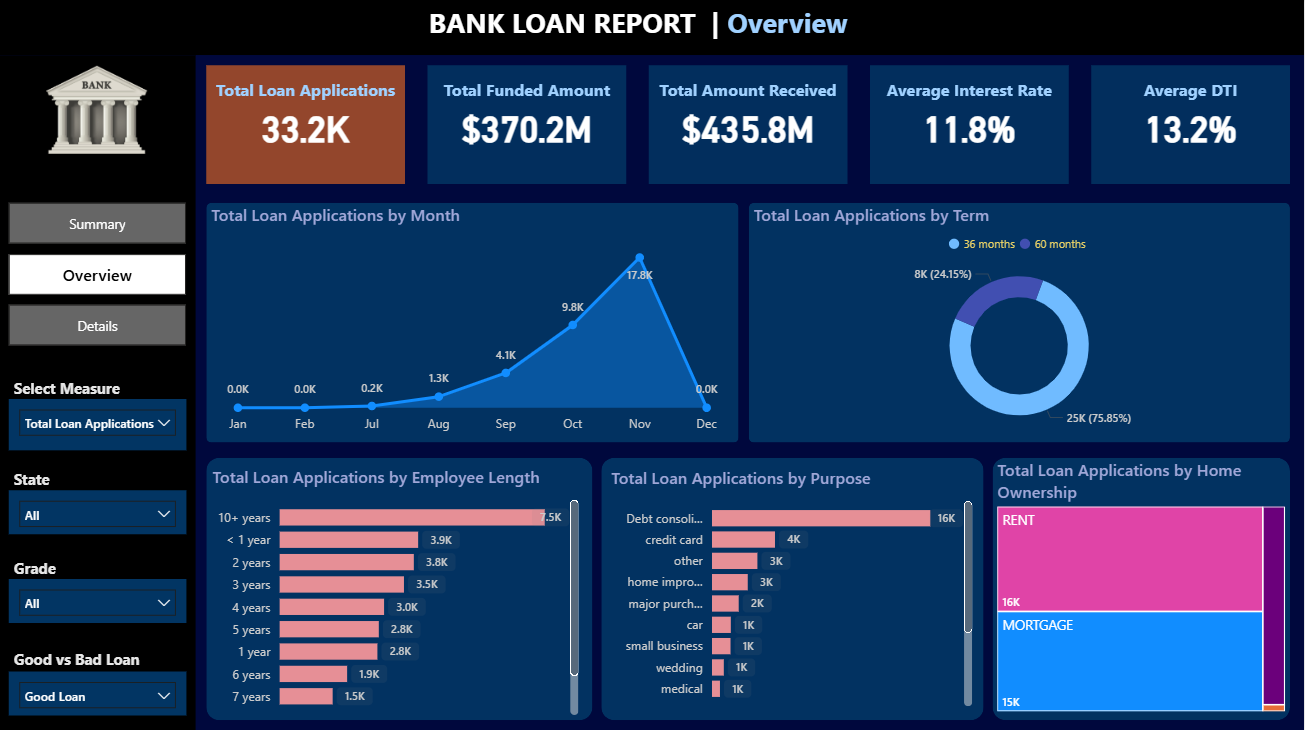

The dashboard page shown, as its layout file describes it:
{"tool":"powerbi","page":{"name":"Overview","canvas":[1280,720],"ordinal":1},"visuals":[{"type":"shape","box":[202.5,65,195.1,116.6],"z":0,"group":"g1"},{"type":"shape","box":[419.6,65,195.1,116.6],"z":0,"group":"g2"},{"type":"shape","box":[636.8,65,195.1,116.6],"z":0,"group":"g3"},{"type":"shape","box":[854,65,195.1,116.6],"z":0,"group":"g4"},{"type":"shape","box":[1071.2,65,195.1,116.6],"z":0,"group":"g5"},{"type":"shape","box":[202.5,200,522.7,235.6],"z":0},{"type":"shape","box":[0,0,1280.3,55],"z":1000},{"type":"card","fields":{"Values":["bank_loans bank_loan_data.Total Loan Applications"]},"box":[202.5,96.9,195.1,56.4],"z":1000,"group":"g1"},{"type":"card","fields":{"Values":["bank_loans bank_loan_data.Total Funded Amount"]},"box":[419.6,96.9,195.1,56.4],"z":1000,"group":"g2"},{"type":"card","fields":{"Values":["bank_loans bank_loan_data.Total Amount Received"]},"box":[636.8,96.9,195.1,56.4],"z":1000,"group":"g3"},{"type":"card","fields":{"Values":["bank_loans bank_loan_data.Avg Interest Rate"]},"box":[854,96.9,195.1,56.4],"z":1000,"group":"g4"},{"type":"card","fields":{"Values":["bank_loans bank_loan_data.Avg DTI"]},"box":[1071.2,96.9,195.1,56.4],"z":1000,"group":"g5"},{"type":"shape","box":[0,55.2,192,665],"z":2000},{"type":"textbox","box":[202.5,72.4,195.1,35.6],"z":2000,"group":"g1"},{"type":"textbox","box":[419.6,72.4,195.1,35.6],"z":2000,"group":"g2"},{"type":"textbox","box":[636.8,72.4,195.1,35.6],"z":2000,"group":"g3"},{"type":"textbox","box":[854,72.4,195.1,35.6],"z":2000,"group":"g4"},{"type":"textbox","box":[1071.2,72.4,195.1,35.6],"z":2000,"group":"g5"},{"type":"textbox","box":[416,0,449.1,55.2],"z":3000},{"type":"group","id":"g1","title":"Group 1","box":[202.5,65,195.1,116.6],"z":4000},{"type":"group","id":"g2","title":"Group 1","box":[419.6,65,195.1,116.6],"z":5000},{"type":"group","id":"g3","title":"Group 1","box":[636.8,65,195.1,116.6],"z":6000},{"type":"group","id":"g4","title":"Group 1","box":[854,65,195.1,116.6],"z":7000},{"type":"group","id":"g5","title":"Group 1","box":[1071.2,65,195.1,116.6],"z":8000},{"type":"slicer","fields":{"Values":["bank_loans bank_loan_data.address_state"]},"box":[8.6,481.9,174.2,42.9],"z":9000},{"type":"textbox","box":[8.6,456.1,174.2,35.6],"z":10000},{"type":"slicer","fields":{"Values":["bank_loans bank_loan_data.grade"]},"box":[8.6,569,174.2,42.9],"z":11000},{"type":"slicer","fields":{"Values":["bank_loans bank_loan_data.Good vs Bad Loan"]},"box":[8.6,659.8,174.2,42.9],"z":12000},{"type":"textbox","box":[8.6,543.2,174.2,35.6],"z":13000},{"type":"textbox","box":[8.6,632.8,174.2,35.6],"z":14000},{"type":"areaChart","fields":{"Category":["Date Table.Month"],"Y":["bank_loans bank_loan_data.Total Loan Applications"]},"box":[202.5,200,522.7,235.6],"z":15000},{"type":"slicer","fields":{"Values":["Select Measure.Select Measure"]},"box":[8.6,392.5,174.2,50.3],"z":16000},{"type":"textbox","box":[8.6,366.7,174.2,35.6],"z":16001},{"type":"shape","box":[735,200,531.3,235.6],"z":16002},{"type":"donutChart","fields":{"Category":["bank_loans bank_loan_data.term"],"Y":["bank_loans bank_loan_data.Total Loan Applications"]},"box":[735,200,531.3,231.9],"z":16003},{"type":"shape","box":[202.5,450.3,379.1,257.7],"z":16004},{"type":"barChart","fields":{"Category":["bank_loans bank_loan_data.emp_length"],"Y":["bank_loans bank_loan_data.Total Loan Applications"]},"box":[203.7,457.7,369.3,250.3],"z":16005},{"type":"shape","box":[590.2,450.3,375.5,257.7],"z":16006},{"type":"barChart","fields":{"Category":["bank_loans bank_loan_data.purpose"],"Y":["bank_loans bank_loan_data.Total Loan Applications"]},"box":[595.1,458.9,364.4,240.5],"z":16007},{"type":"shape","box":[974.2,450.3,292,257.7],"z":16008},{"type":"treemap","fields":{"Group":["bank_loans bank_loan_data.home_ownership"],"Values":["bank_loans bank_loan_data.Total Loan Applications"]},"box":[974.2,450.3,292,254],"z":16009},{"type":"pageNavigator","box":[8.6,200,174.2,141.1],"z":16010},{"type":"image","box":[40.5,55.2,109.2,108],"z":16011}]}

Visuals, with their boxes in screenshot pixels (x1, y1, x2, y2), scaled from the page's 1280x720 canvas onto the 1305x730 screenshot:
shape: bbox=[206, 66, 405, 184]
shape: bbox=[428, 66, 627, 184]
shape: bbox=[649, 66, 848, 184]
shape: bbox=[871, 66, 1070, 184]
shape: bbox=[1092, 66, 1291, 184]
shape: bbox=[206, 203, 739, 442]
shape: bbox=[0, 0, 1304, 56]
card - bank_loans bank_loan_data.Total Loan Applications: bbox=[206, 98, 405, 155]
card - bank_loans bank_loan_data.Total Funded Amount: bbox=[428, 98, 627, 155]
card - bank_loans bank_loan_data.Total Amount Received: bbox=[649, 98, 848, 155]
card - bank_loans bank_loan_data.Avg Interest Rate: bbox=[871, 98, 1070, 155]
card - bank_loans bank_loan_data.Avg DTI: bbox=[1092, 98, 1291, 155]
shape: bbox=[0, 56, 196, 729]
textbox: bbox=[206, 73, 405, 110]
textbox: bbox=[428, 73, 627, 110]
textbox: bbox=[649, 73, 848, 110]
textbox: bbox=[871, 73, 1070, 110]
textbox: bbox=[1092, 73, 1291, 110]
textbox: bbox=[424, 0, 882, 56]
"Group 1" group: bbox=[206, 66, 405, 184]
"Group 1" group: bbox=[428, 66, 627, 184]
"Group 1" group: bbox=[649, 66, 848, 184]
"Group 1" group: bbox=[871, 66, 1070, 184]
"Group 1" group: bbox=[1092, 66, 1291, 184]
slicer - bank_loans bank_loan_data.address_state: bbox=[9, 489, 186, 532]
textbox: bbox=[9, 462, 186, 499]
slicer - bank_loans bank_loan_data.grade: bbox=[9, 577, 186, 620]
slicer - bank_loans bank_loan_data.Good vs Bad Loan: bbox=[9, 669, 186, 712]
textbox: bbox=[9, 551, 186, 587]
textbox: bbox=[9, 642, 186, 678]
areaChart - Date Table.Month x bank_loans bank_loan_data.Total Loan Applications: bbox=[206, 203, 739, 442]
slicer - Select Measure.Select Measure: bbox=[9, 398, 186, 449]
textbox: bbox=[9, 372, 186, 408]
shape: bbox=[749, 203, 1291, 442]
donutChart - bank_loans bank_loan_data.term x bank_loans bank_loan_data.Total Loan Applications: bbox=[749, 203, 1291, 438]
shape: bbox=[206, 457, 593, 718]
barChart - bank_loans bank_loan_data.emp_length x bank_loans bank_loan_data.Total Loan Applications: bbox=[208, 464, 584, 718]
shape: bbox=[602, 457, 985, 718]
barChart - bank_loans bank_loan_data.purpose x bank_loans bank_loan_data.Total Loan Applications: bbox=[607, 465, 978, 709]
shape: bbox=[993, 457, 1291, 718]
treemap - bank_loans bank_loan_data.home_ownership x bank_loans bank_loan_data.Total Loan Applications: bbox=[993, 457, 1291, 714]
pageNavigator: bbox=[9, 203, 186, 346]
image: bbox=[41, 56, 153, 165]
